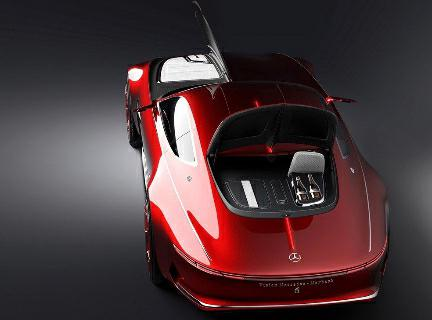奔驰-VisionMercedes-Maybach6: (119, 45, 404, 319)
